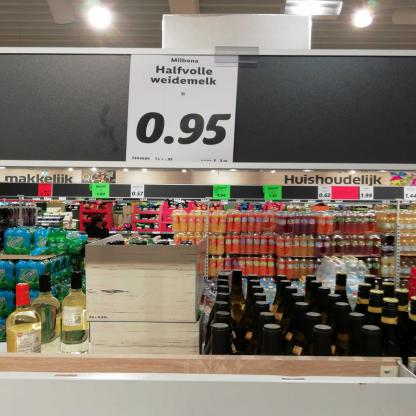prtg: (127, 56, 239, 164)
